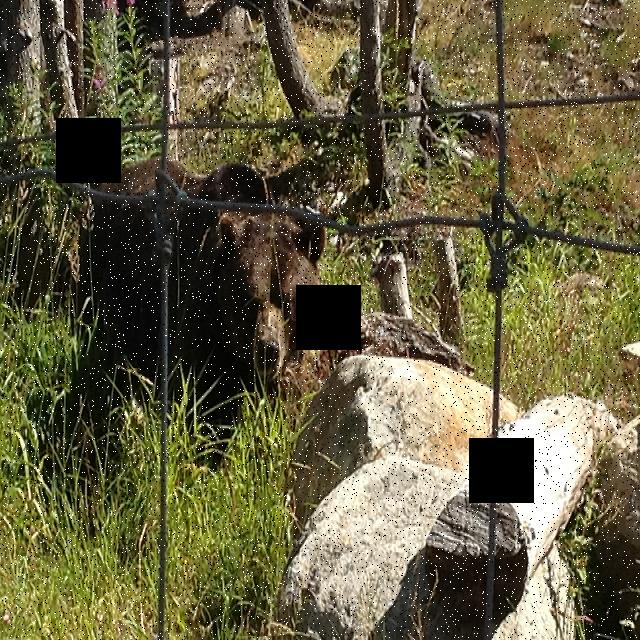Bear: (76, 143, 324, 408)
